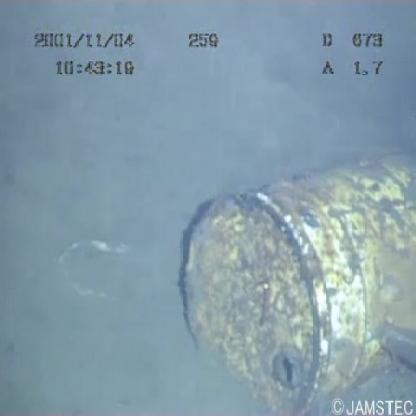Rác: (179, 131, 415, 416)
